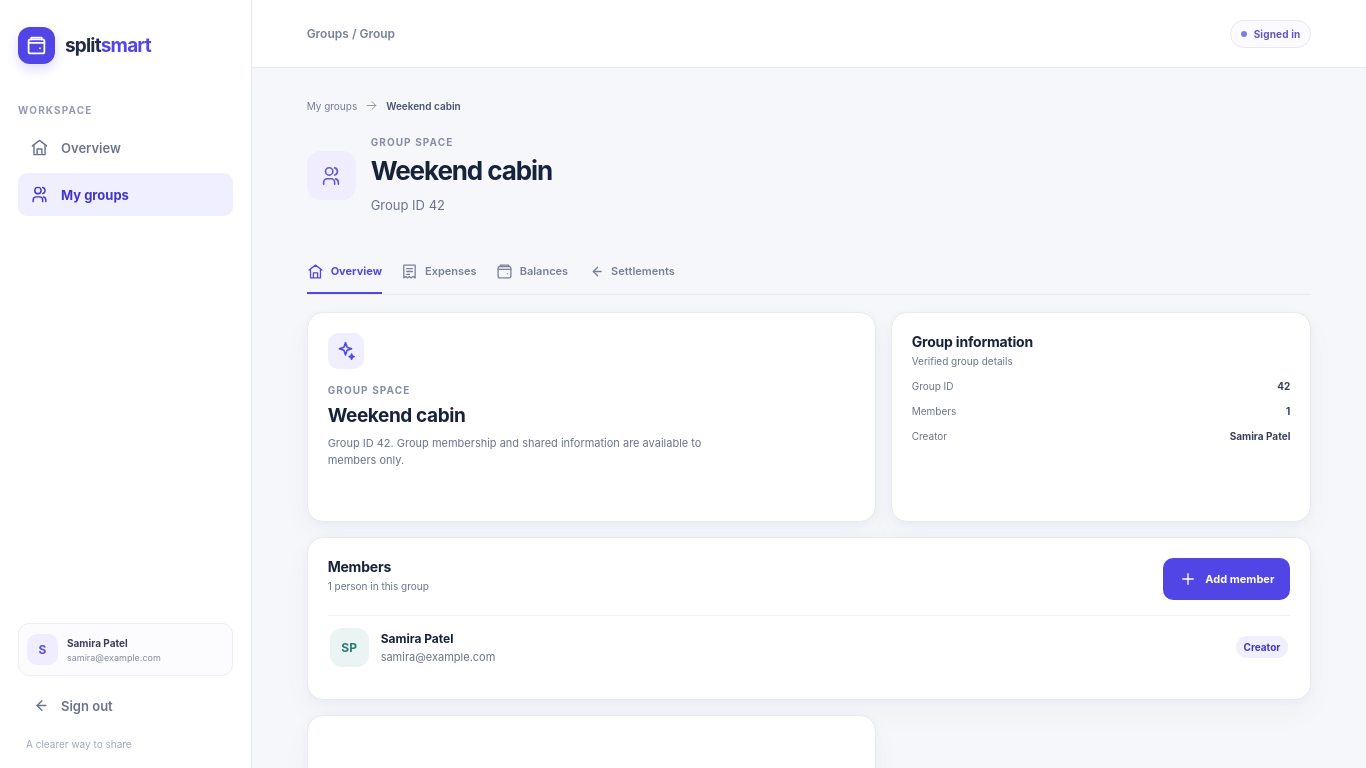
authenticated group management › adds an existing member by email and refreshes the member list
This screenshot has width=1366, height=768.
Click the button "Add member": (1227, 578) top-left (1163, 558), bottom-right (1290, 600)
(page scrolled)
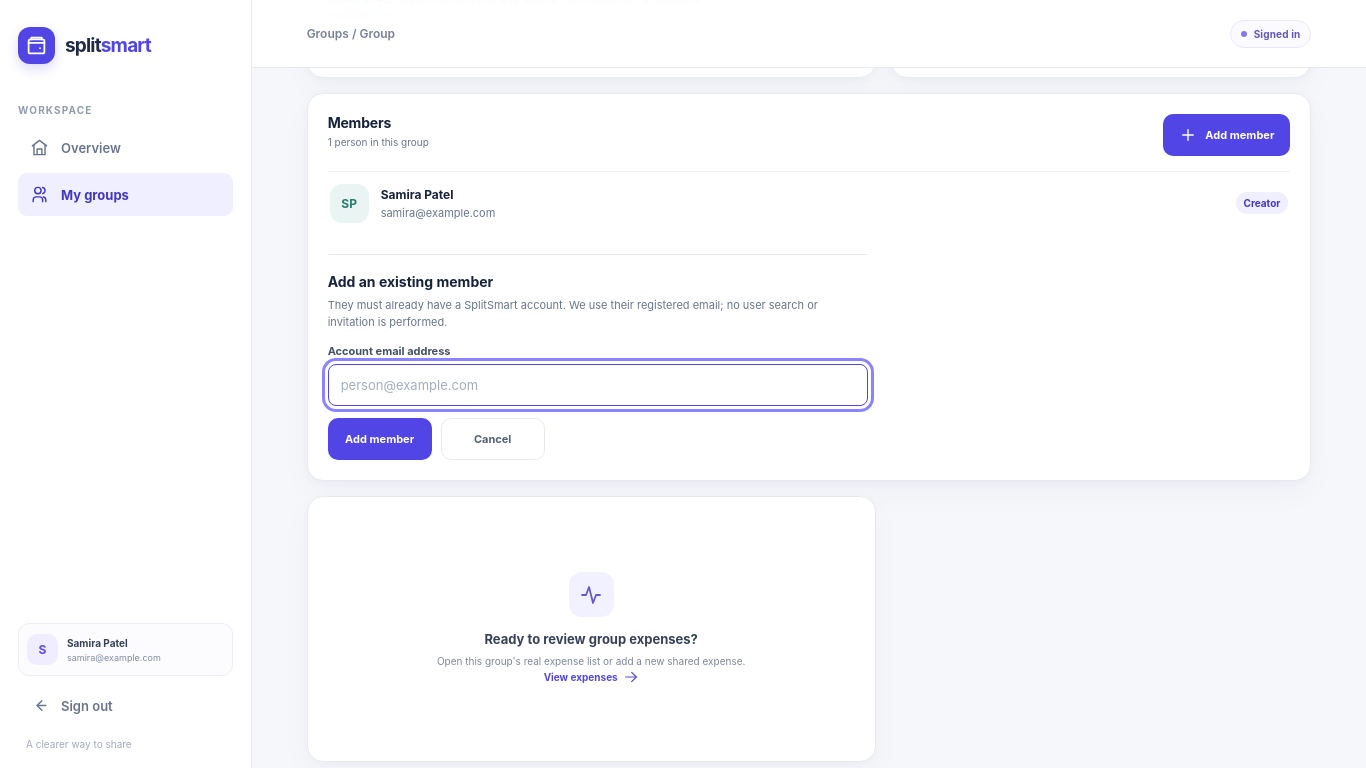
In the field labelled "Account email address": (598, 385) top-left (328, 364), bottom-right (868, 406), type "  ALEX@EXAMPLE.COM "
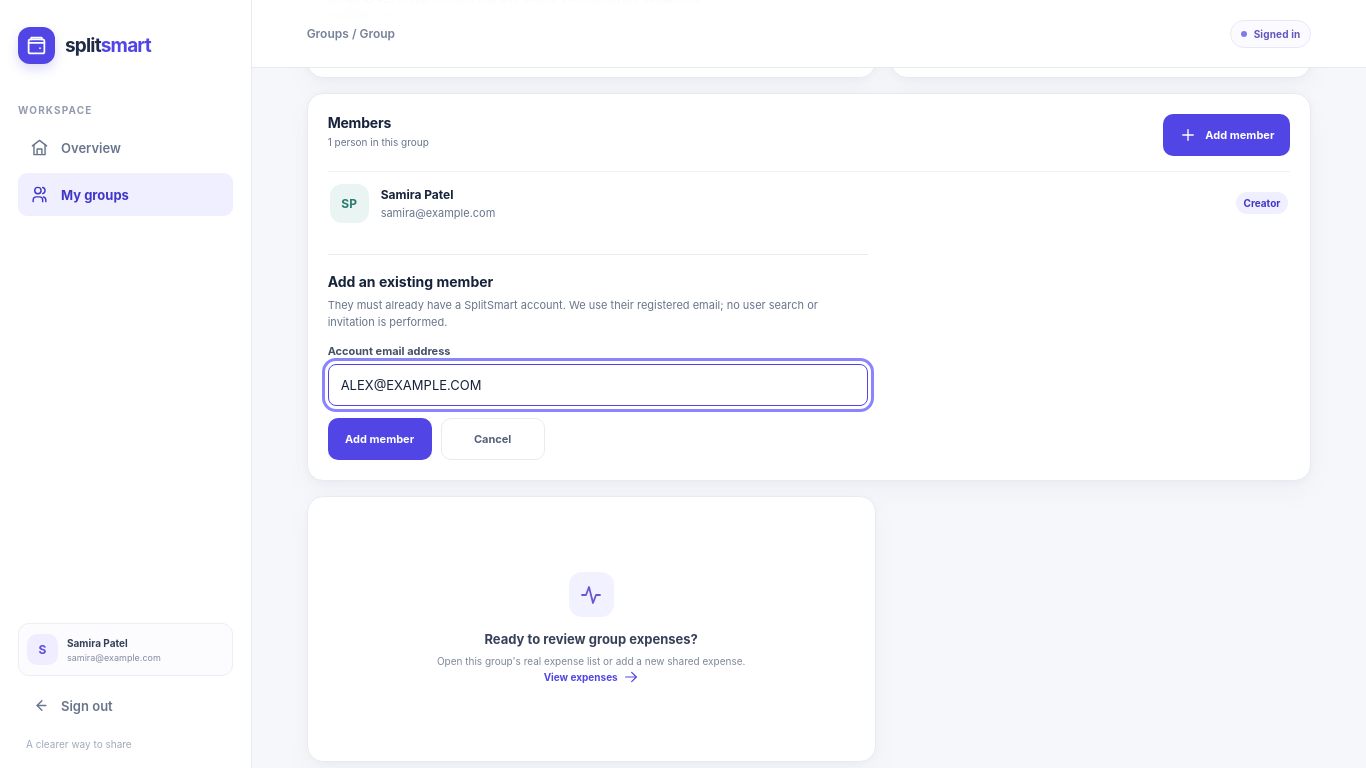
Click the button "Add member" below "Account email address": (380, 439) top-left (328, 418), bottom-right (432, 460)
(page scrolled)
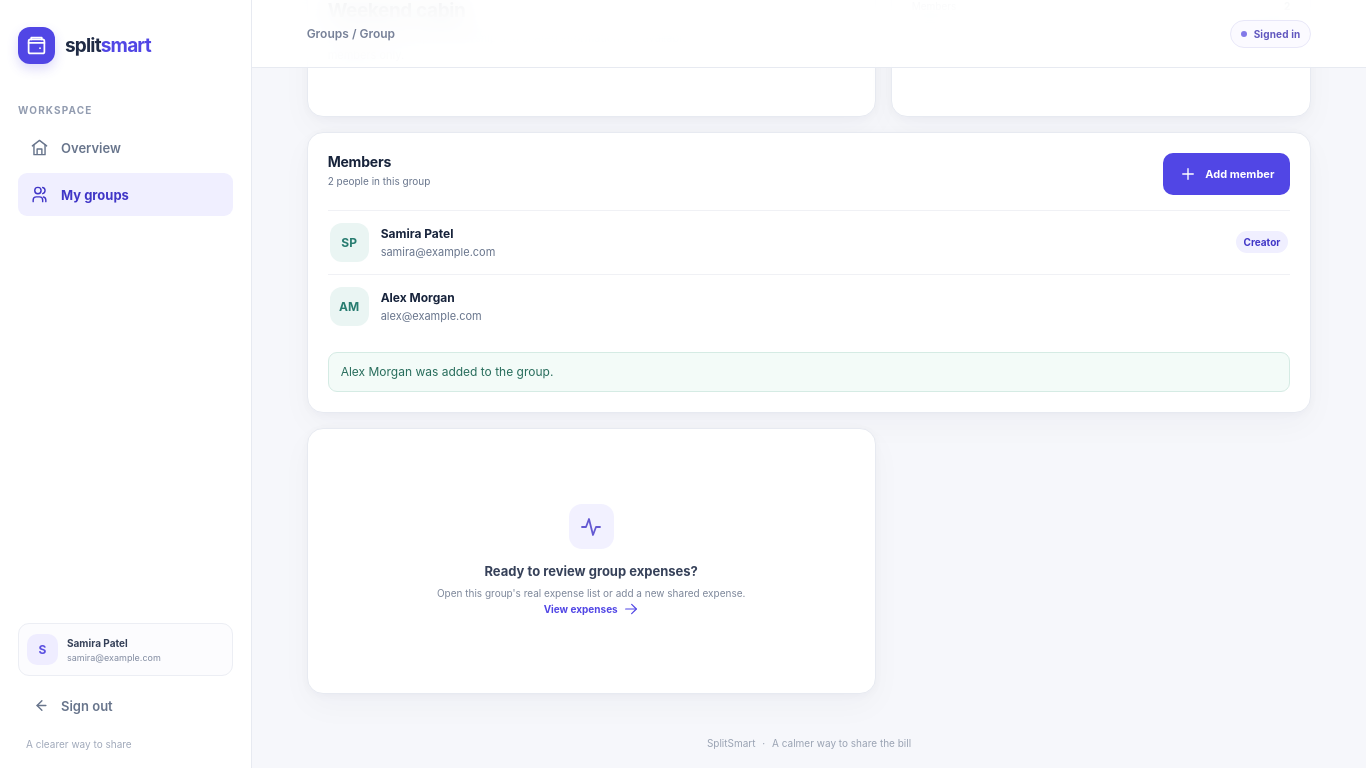
Result: the message reads "Alex Morgan was added to the group." at top-left (341, 364), bottom-right (553, 378)
Result: the text "alex@example.com" is shown at top-left (381, 308), bottom-right (482, 322)
